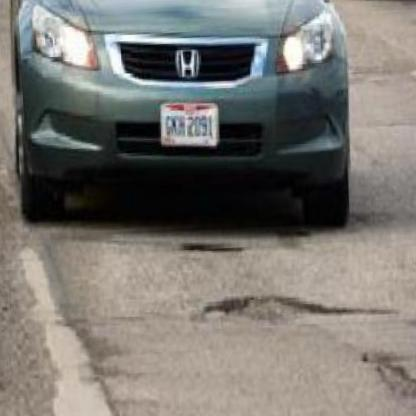pothole: (198, 287, 322, 334)
